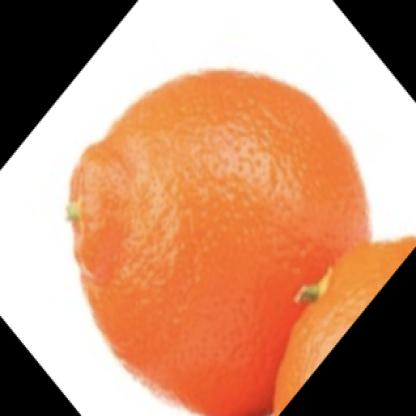fresh: (65, 68, 370, 416)
